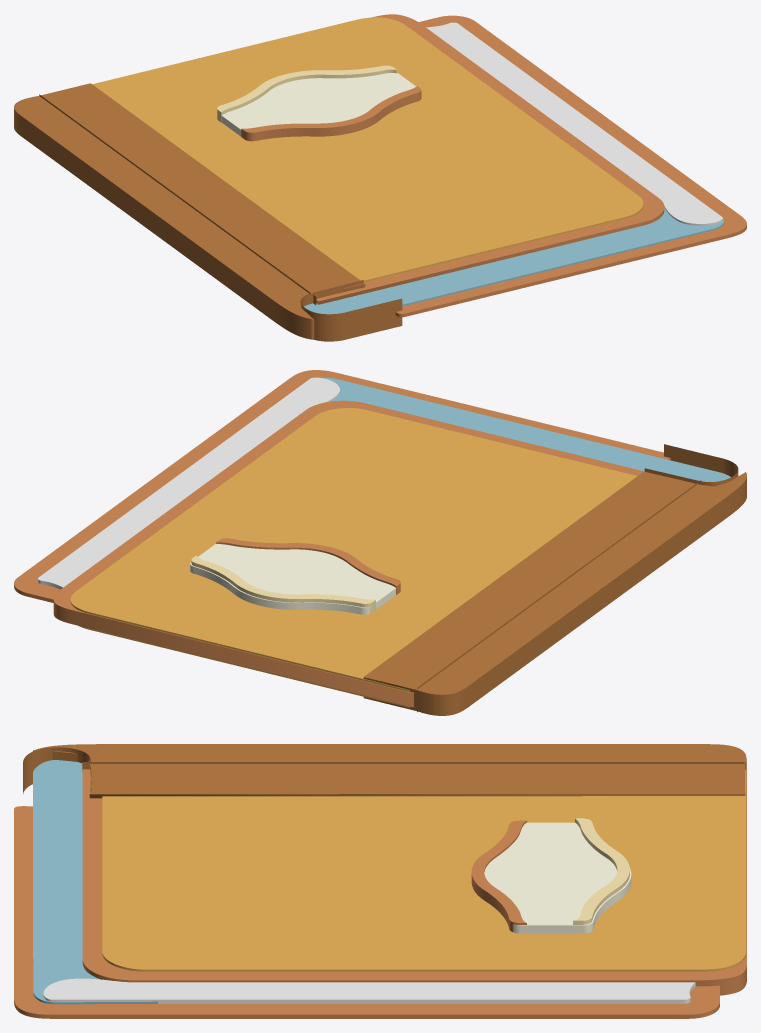
Rendered from emoji_u1f4d4.glb.
3 views of the same model, one above another, from view 1: azimuth 30°, elevation 25°; view 2: azimuth 150°, elevation 25°; view 3: azimuth 270°, elevation 25° (orthographic). The views are drawn at different scales.
Parts seen in each view (by area): view 1: emoji_u1f4d4; view 2: emoji_u1f4d4; view 3: emoji_u1f4d4.
Boxes of the visible parts, left/top/right/bottom form: emoji_u1f4d4: left=14, top=14, right=746, bottom=341; emoji_u1f4d4: left=14, top=370, right=746, bottom=715; emoji_u1f4d4: left=14, top=744, right=746, bottom=1018.
Bounding box in the file's own units: 0.0272 × 0.0022 × 0.0324.
